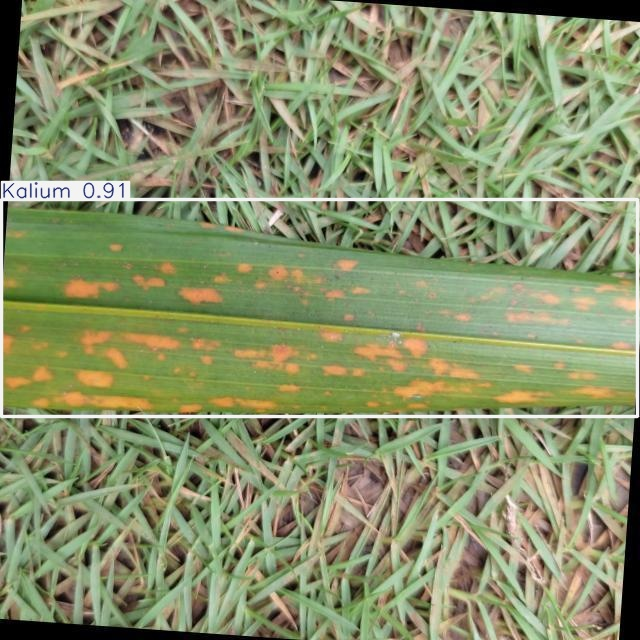Kalium: (1, 199, 637, 417)
